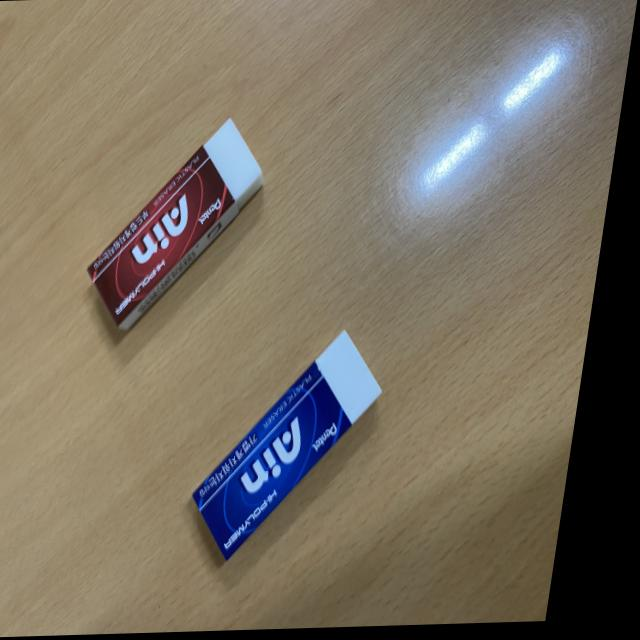blue: (196, 328, 407, 560)
red: (83, 113, 286, 335)
